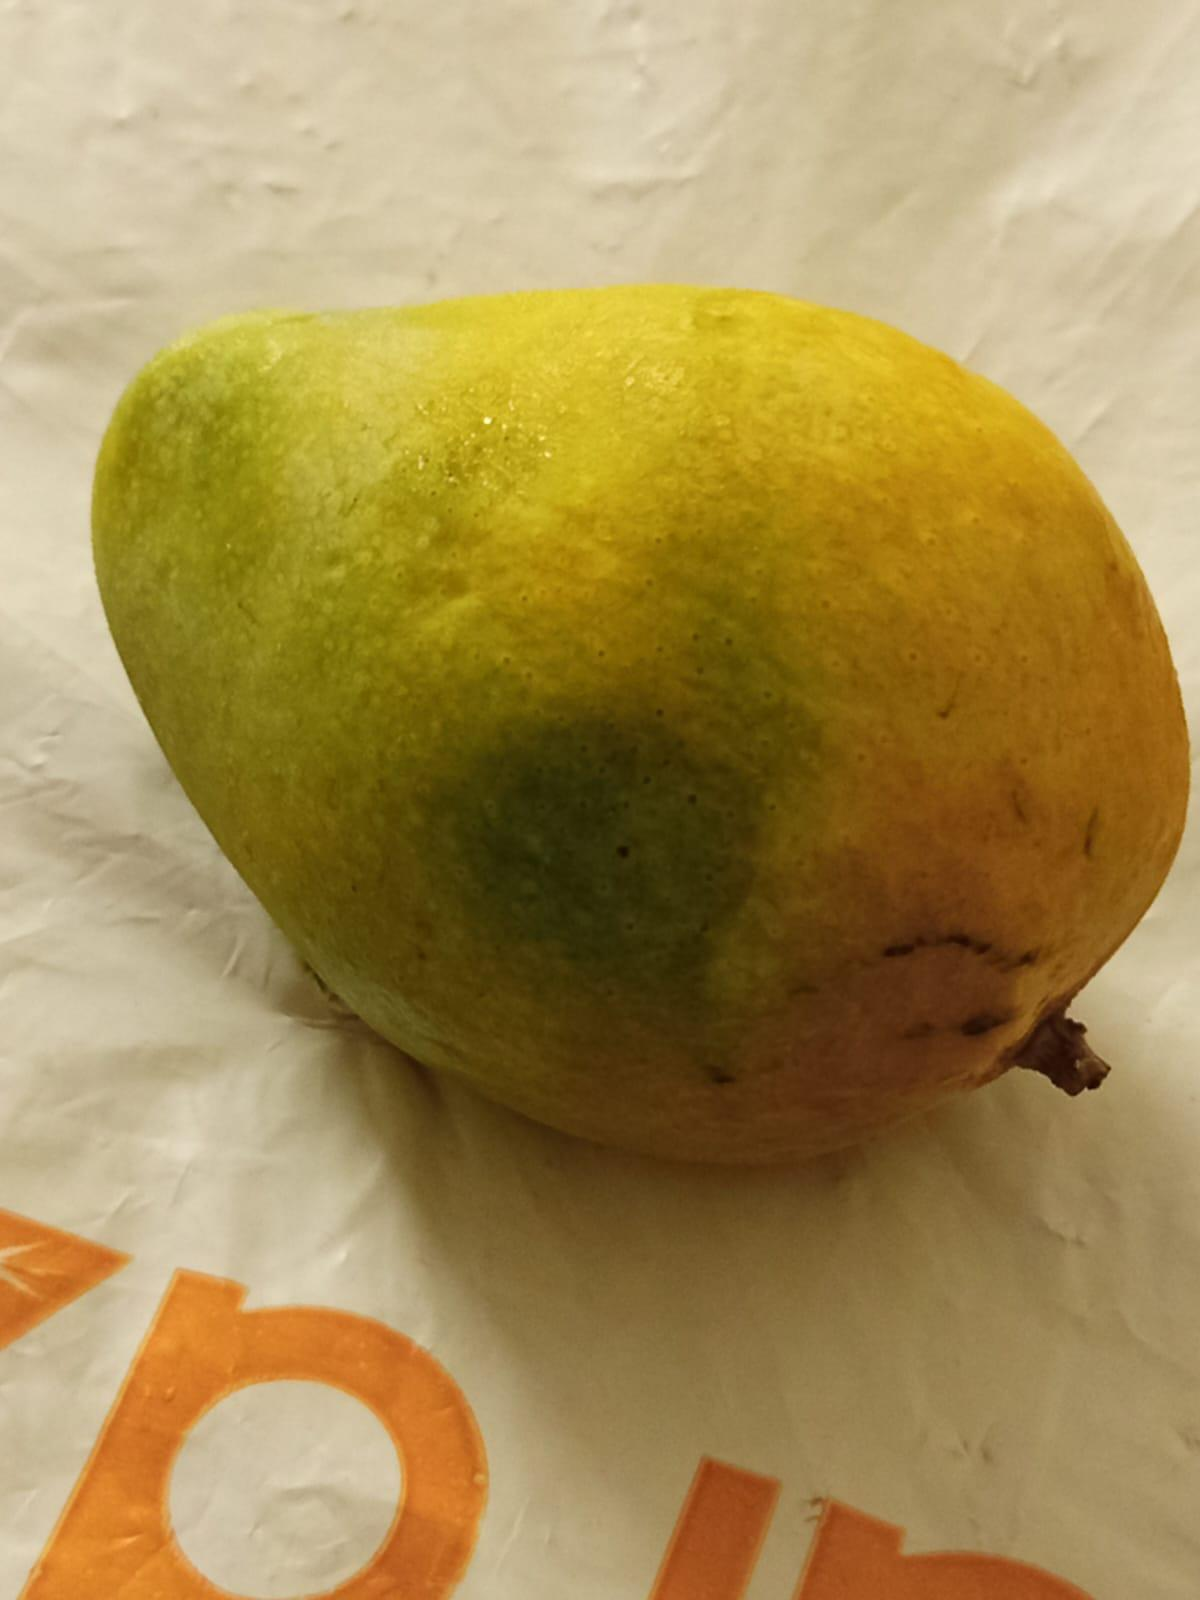mango: (88, 280, 1192, 1168)
